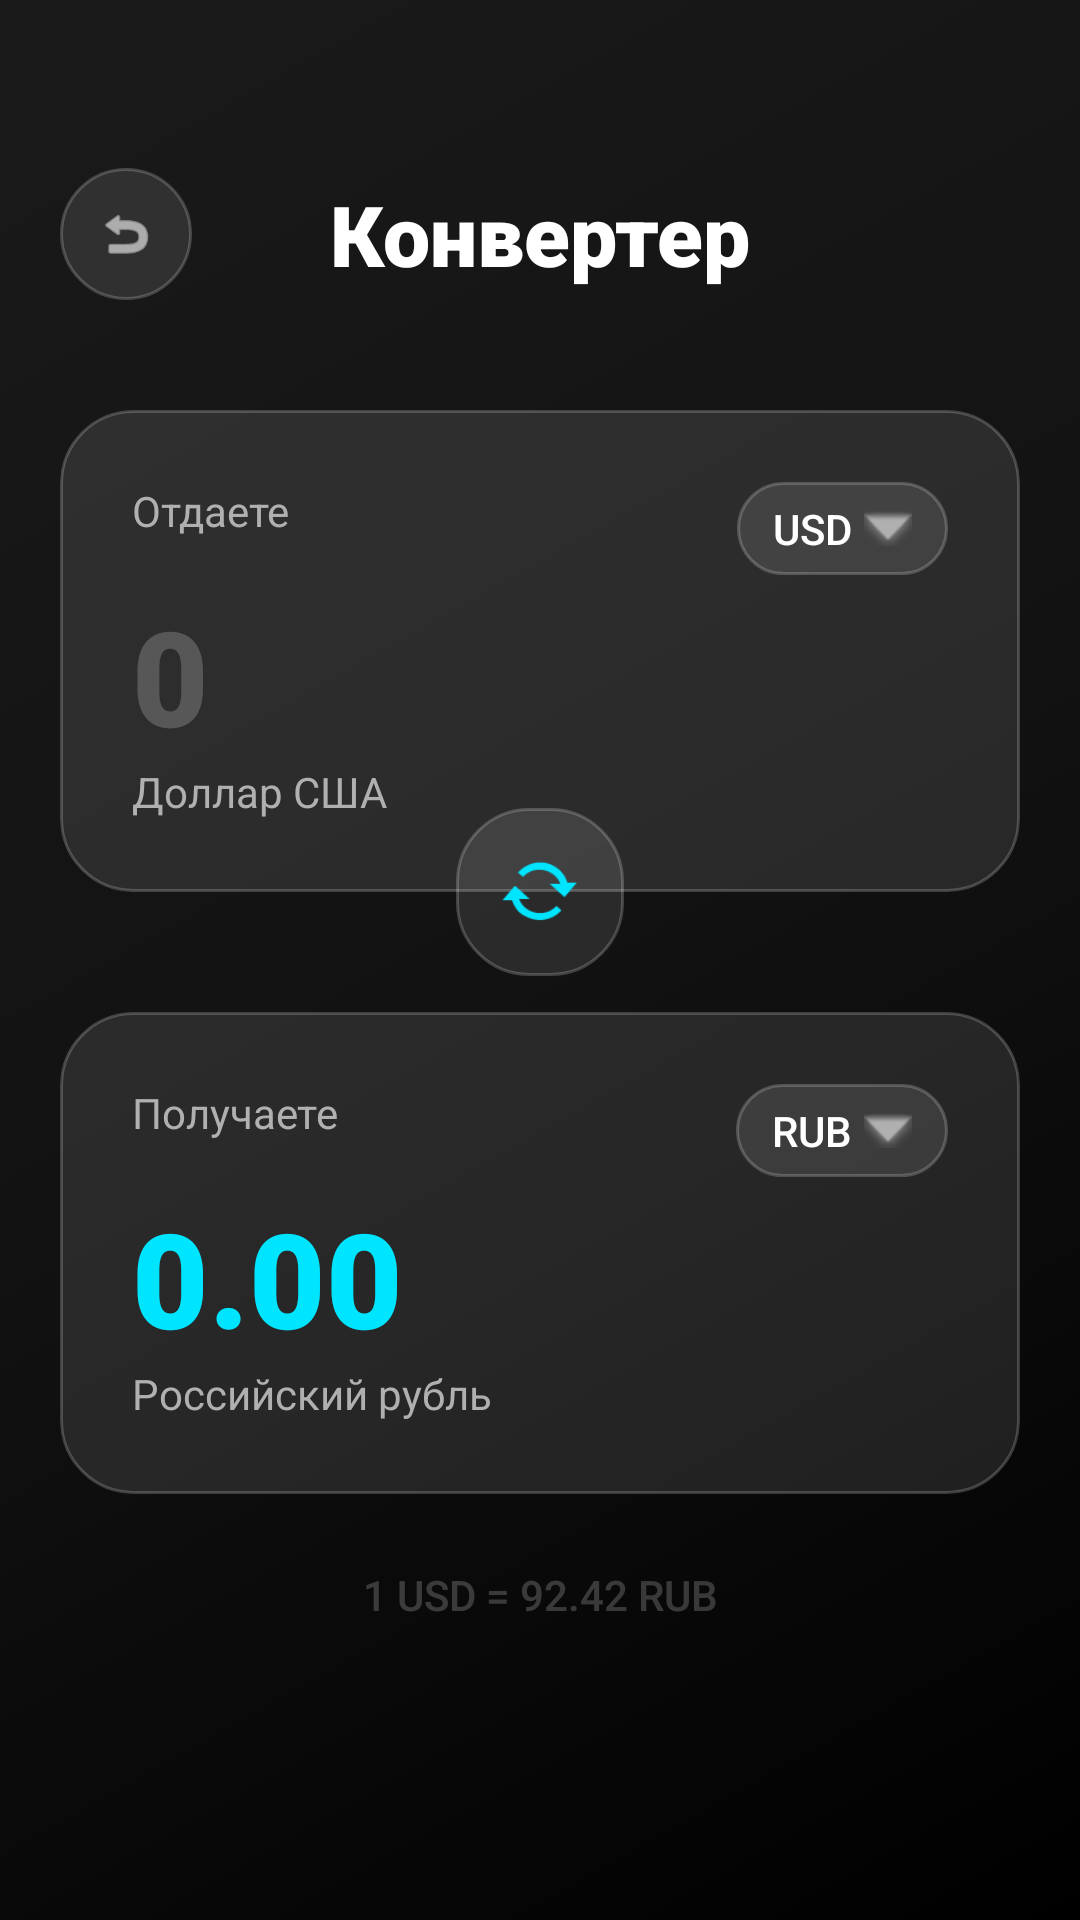

Where to tap for icons on this 1080 x 1920 app screen, as (x,y):
arrow down float: (888,527), (888,1129)
revert: (126,234)
sync: (540,892)
